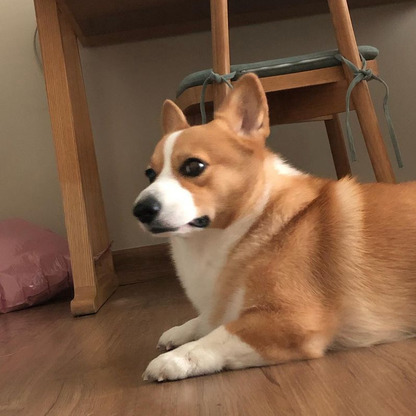Corgi: (123, 82, 385, 380)
